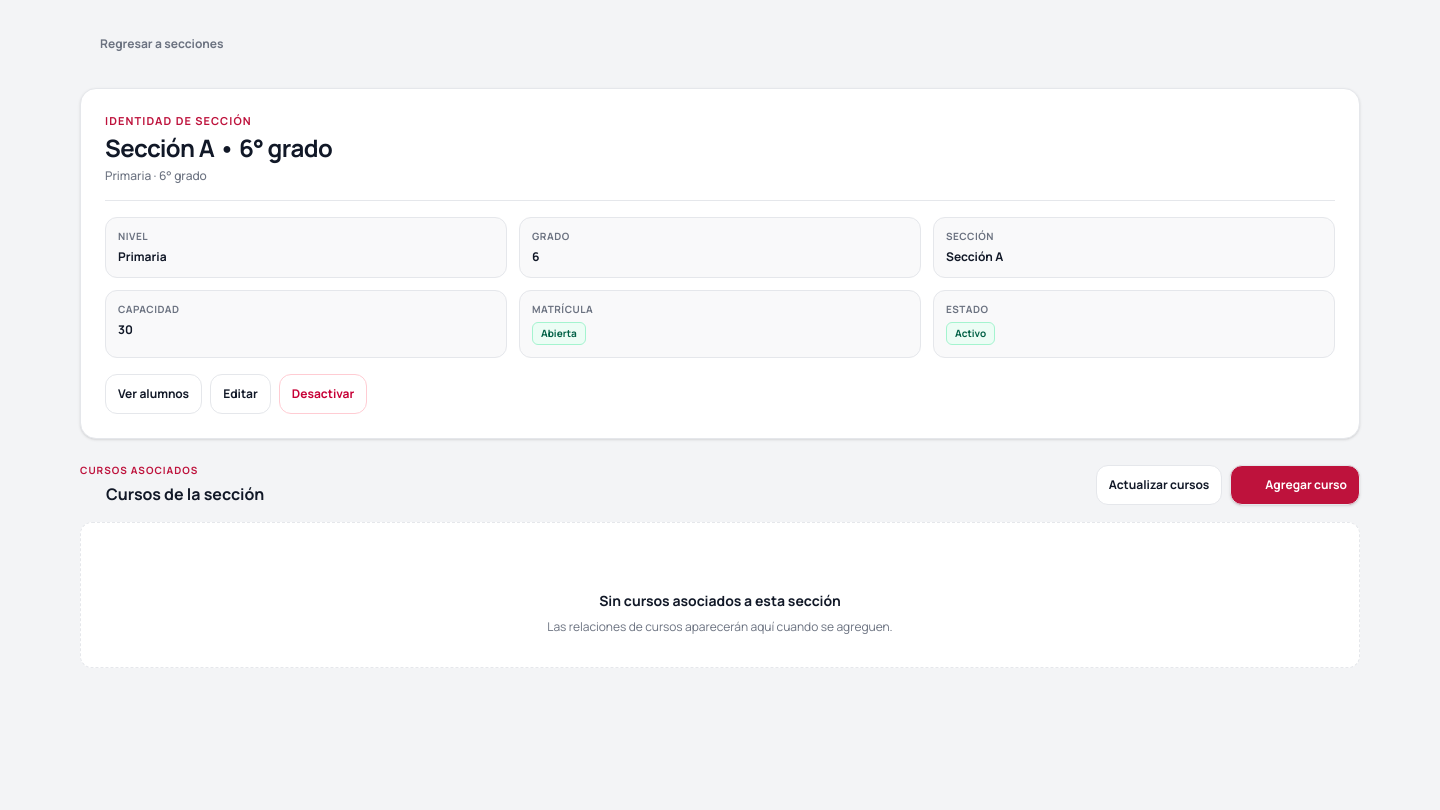
Test case: edit keeps the level, shows its inactive period and sends only the changes
Click the button "Editar".
click(240, 394)  # box left=210, top=374, right=271, bottom=414
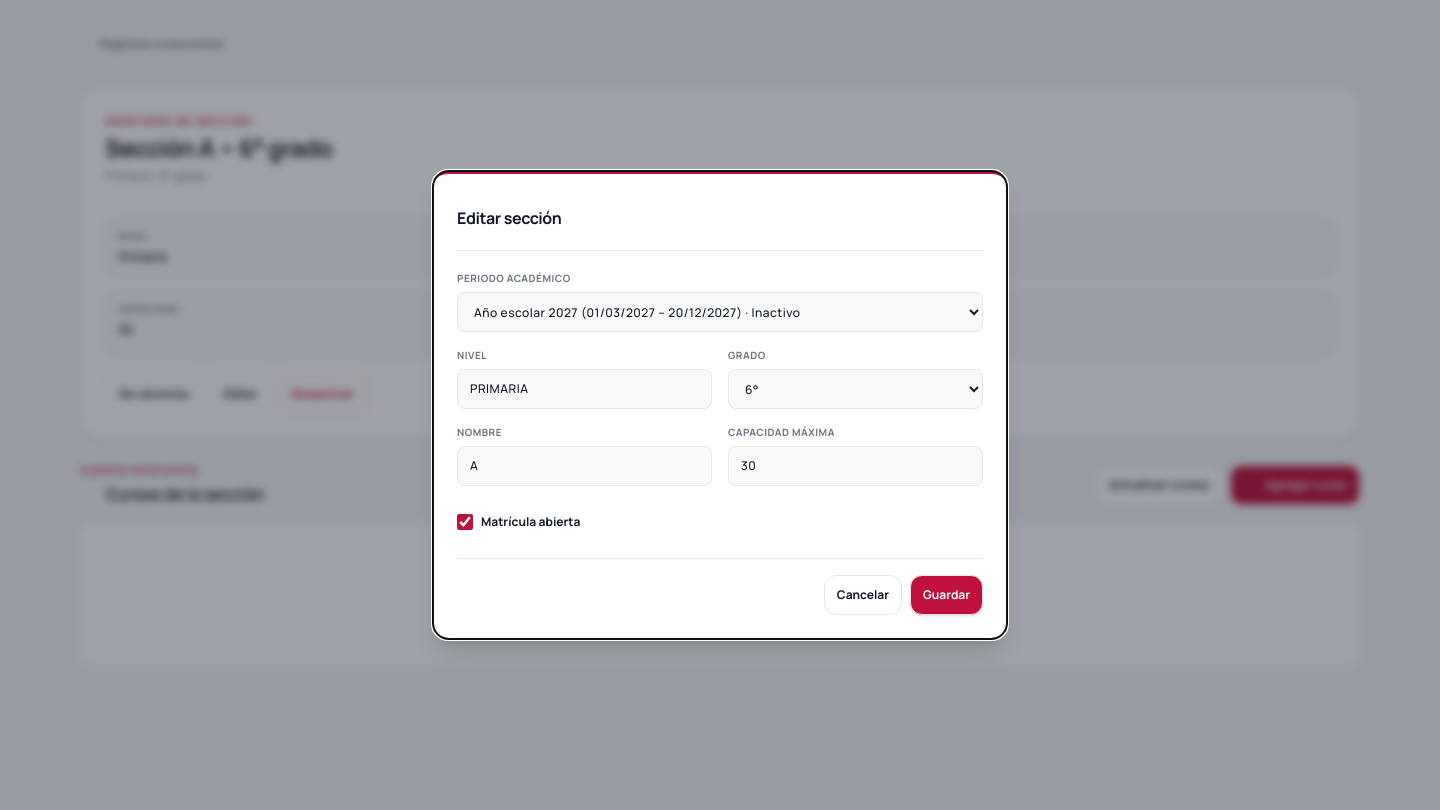
Submit the form, box left=457, top=271, right=983, bottom=615
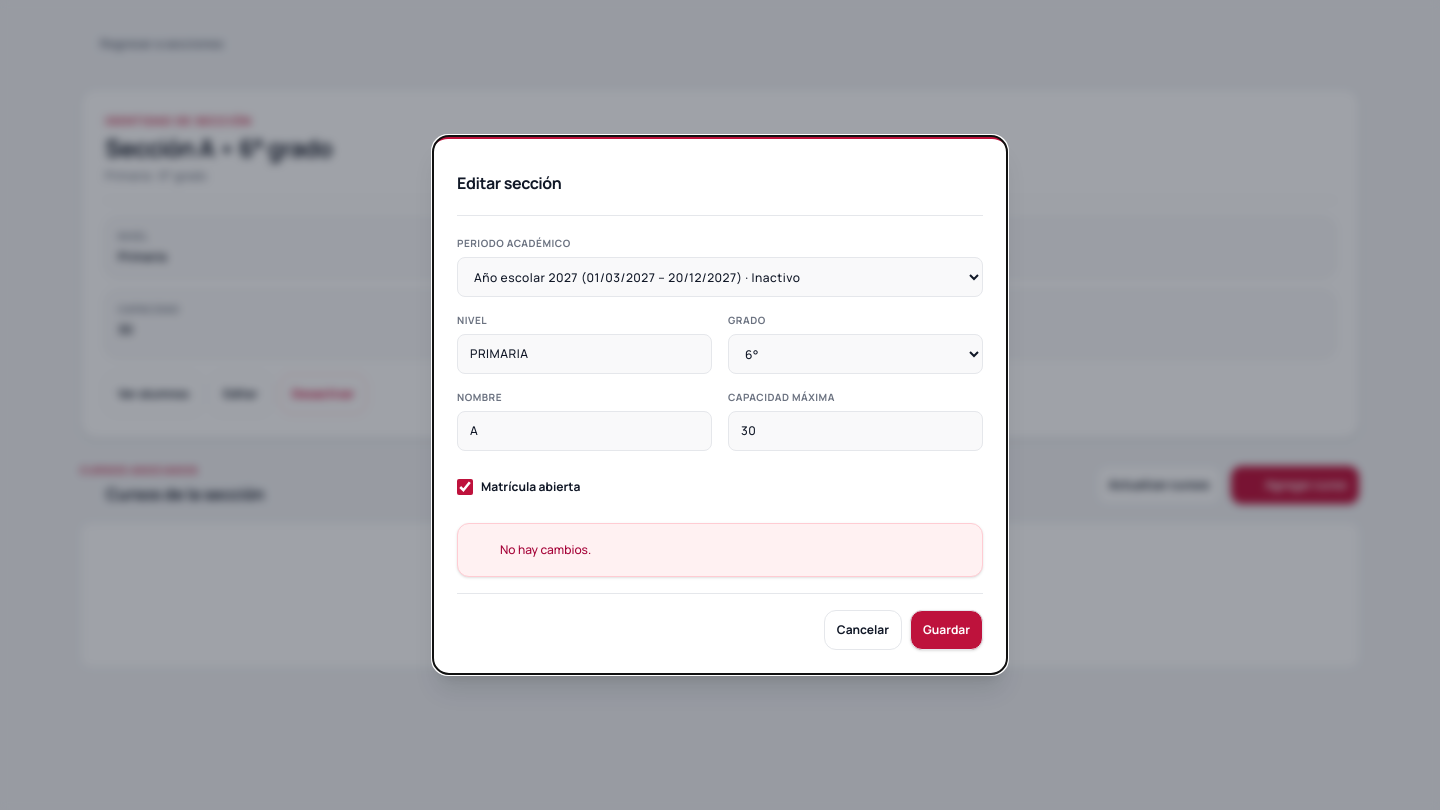
Expected: the text "No hay cambios" is shown, left=500, top=541, right=591, bottom=558
Click the number field labelled "Capacidad máxima".
click(856, 431)  # box left=728, top=411, right=983, bottom=451
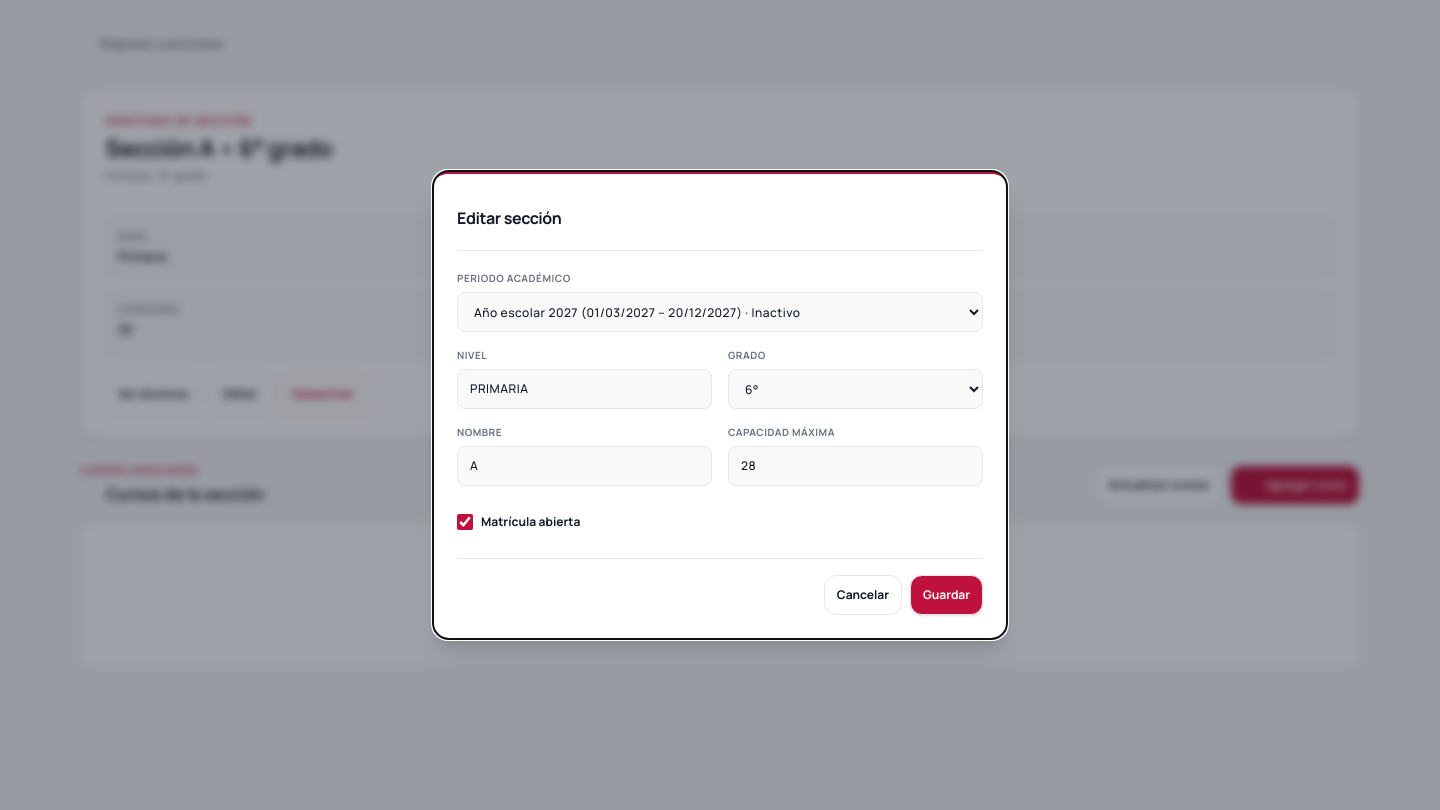
Submit the form, box left=457, top=271, right=983, bottom=615
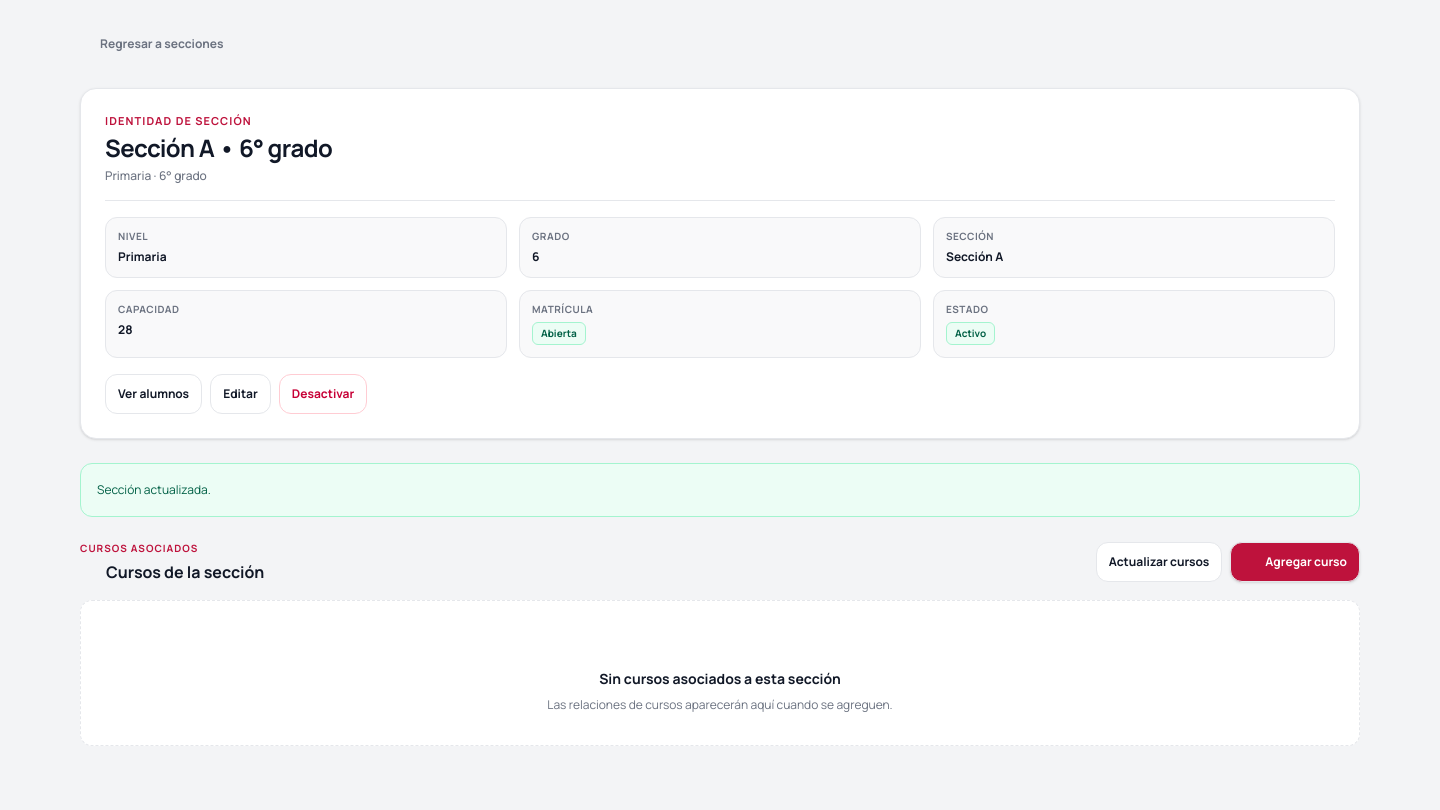
Expected: the text "Sección actualizada" is shown, left=97, top=482, right=211, bottom=498
